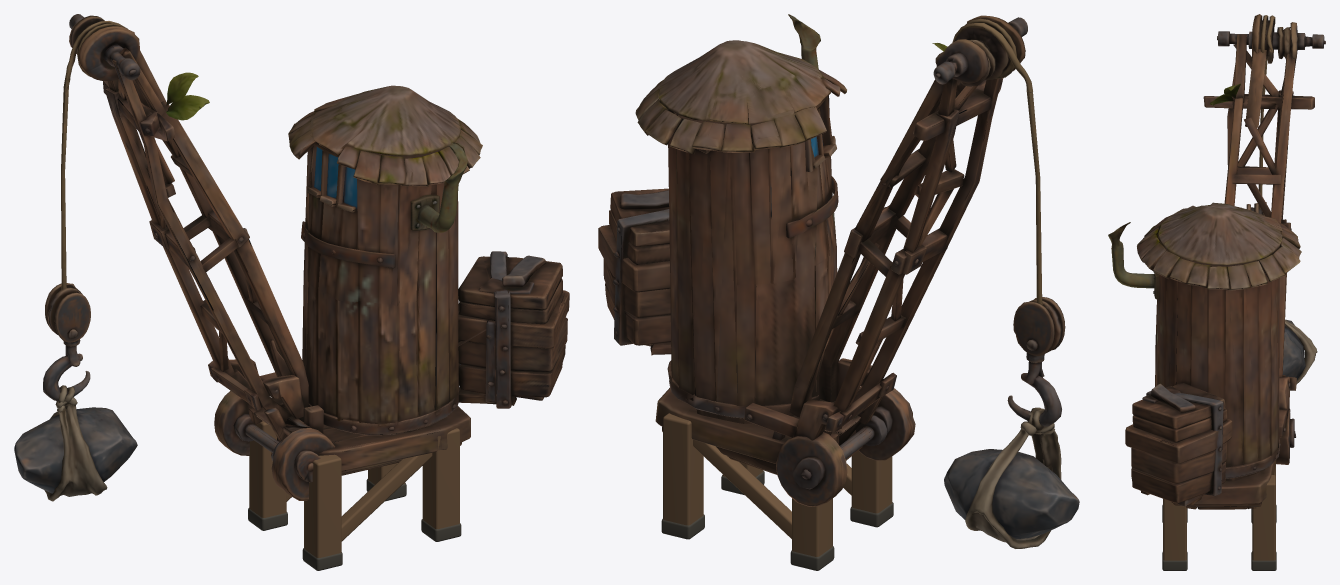
Rendered from crane-hybrid.glb.
The picture shows the model from 3 angles, left to right: view 1: azimuth 30°, elevation 25°; view 2: azimuth 150°, elevation 25°; view 3: azimuth 270°, elevation 25°; orthographic projection. The views are drawn at different scales.
Parts seen in each view (by area): view 1: Crane textured body, Cargo and lower pulley, Timber support, Timber support.002, Timber support.001, Support diagonal; view 2: Crane textured body, Cargo and lower pulley, Timber support.003, Support diagonal.001, Timber support, Timber support.001, Iron foot band.001, Iron foot band, Iron foot band.003; view 3: Crane textured body, Cargo and lower pulley, Timber support.003, Timber support.002, Iron foot band.003, Iron foot band.002.
Part boxes in pixels (x1,y1,x2,y2): Crane textured body: [63, 14, 569, 500]; Cargo and lower pulley: [14, 86, 137, 501]; Timber support: [304, 454, 341, 557]; Timber support.002: [422, 428, 459, 529]; Timber support.001: [249, 421, 286, 517]; Support diagonal: [341, 453, 432, 541]; Crane textured body: [598, 14, 1032, 506]; Cargo and lower pulley: [944, 89, 1079, 548]; Timber support.003: [663, 413, 703, 525]; Support diagonal.001: [693, 439, 791, 538]; Timber support: [851, 450, 892, 513]; Timber support.001: [792, 498, 832, 556]; Iron foot band.001: [790, 546, 834, 570]; Iron foot band: [850, 502, 893, 527]; Iron foot band.003: [661, 514, 704, 539]; Crane textured body: [1108, 14, 1325, 509]; Cargo and lower pulley: [1246, 58, 1317, 383]; Timber support.003: [1252, 475, 1275, 560]; Timber support.002: [1163, 499, 1186, 560]; Iron foot band.003: [1251, 551, 1276, 570]; Iron foot band.002: [1162, 552, 1187, 570].
Size of the model in its own units: 0.9375 by 0.9768 by 0.4404.
3 materials, 1 textured.
